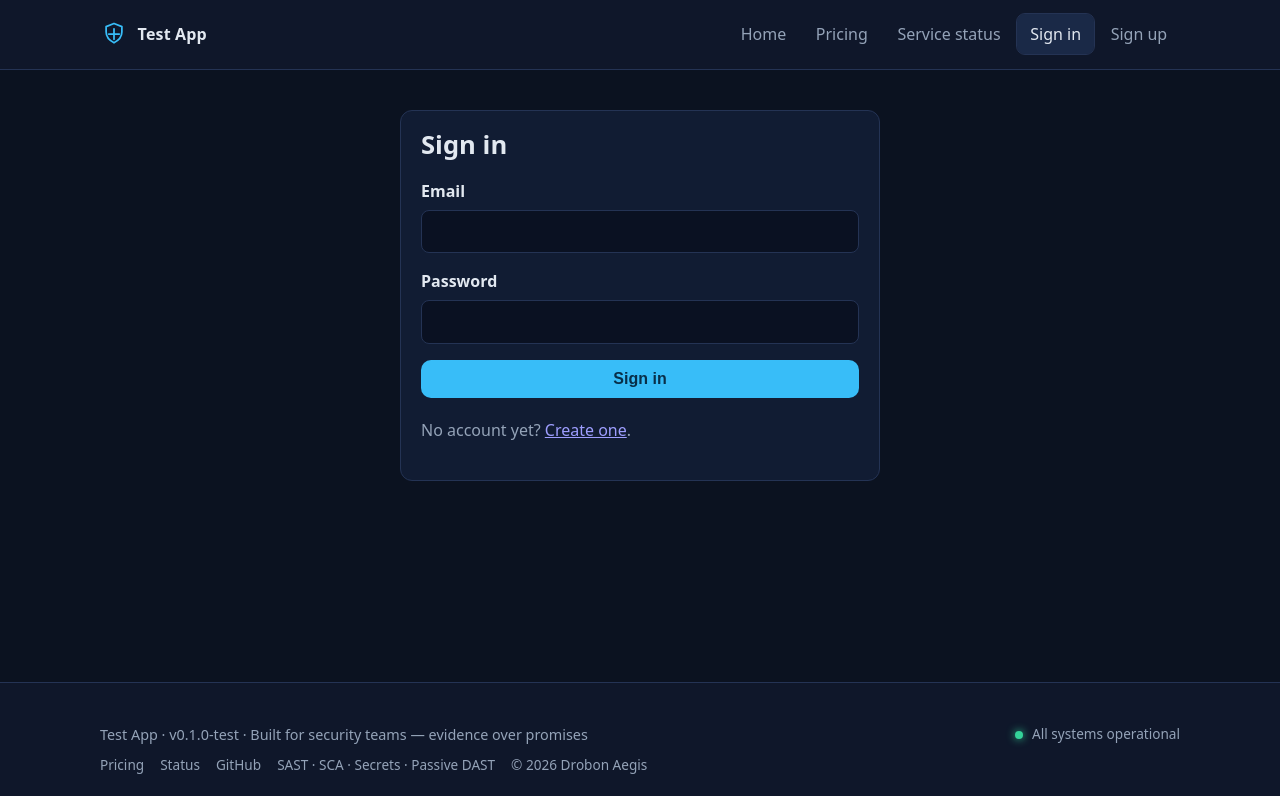
login page › Developer login lands on the workspace overview
This screenshot has width=1280, height=796.
Type "developer@example.test" into the field labelled "Email". click: [640, 232]
box: top-left (421, 210), bottom-right (859, 253)
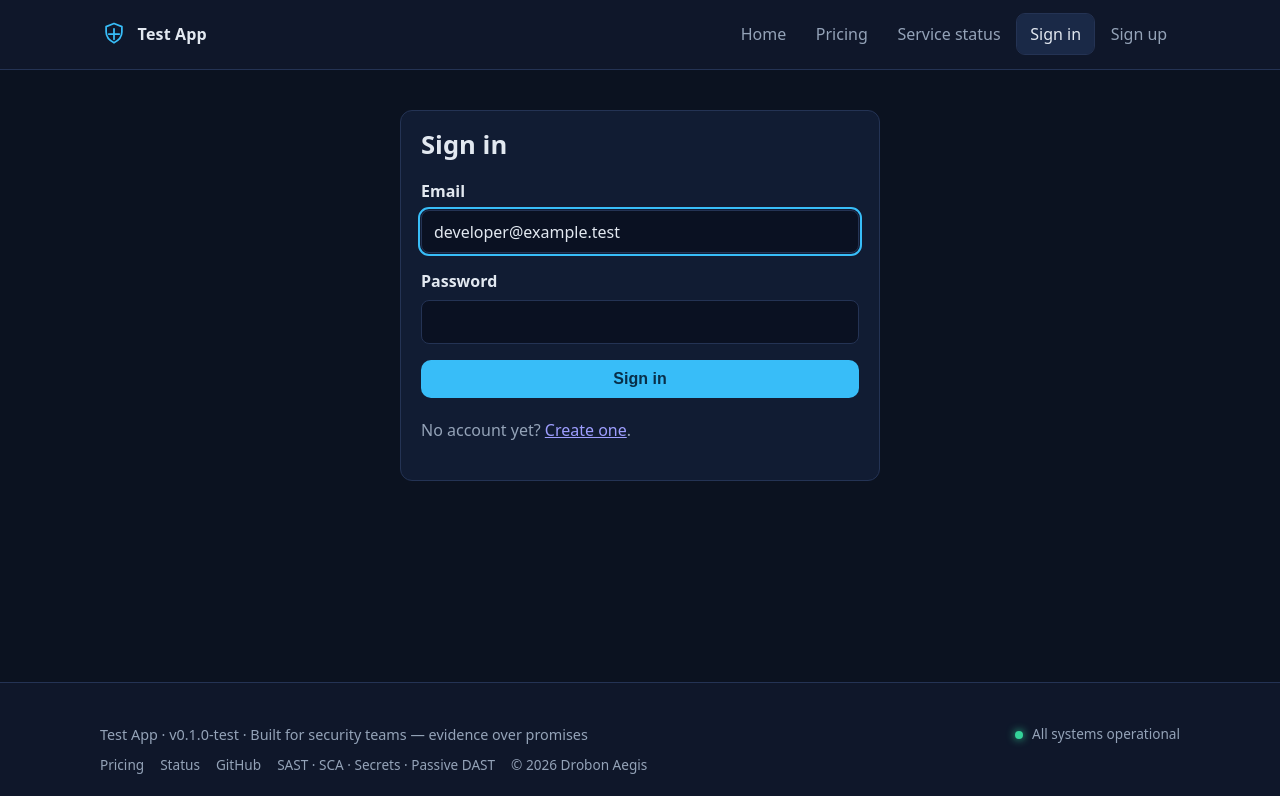
Type "developer-password" into the password field labelled "Password". click: [640, 322]
box: top-left (421, 300), bottom-right (859, 344)
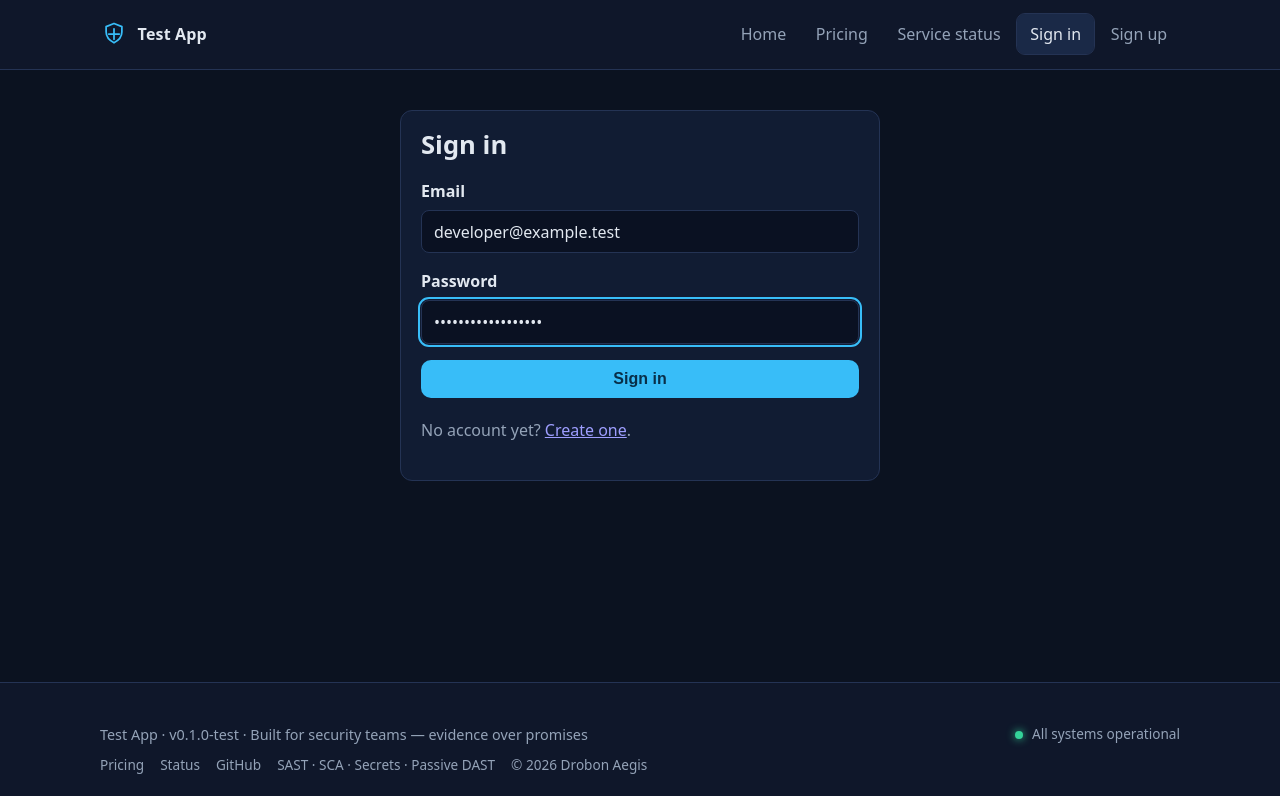
Click the button "Sign in". click: [640, 379]
box: top-left (421, 360), bottom-right (859, 398)
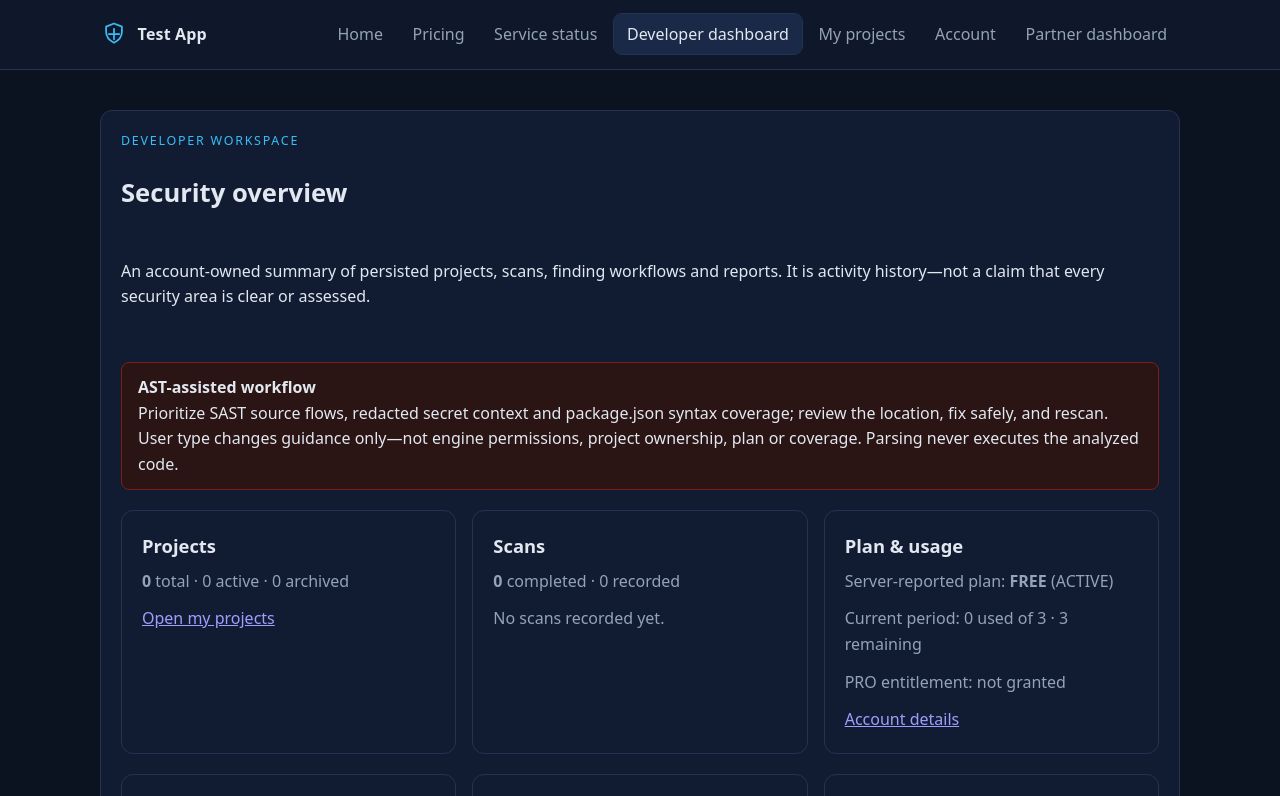
Check: the heading "Security overview" is shown, box top-left (121, 175), bottom-right (348, 210)
